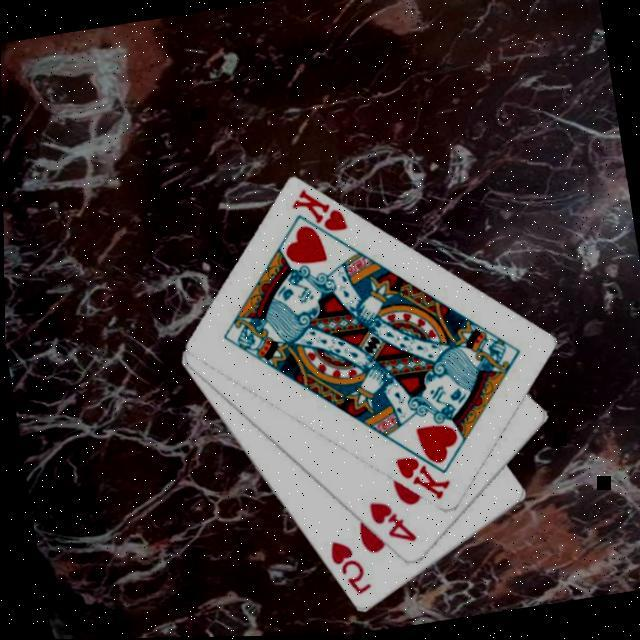4H: (364, 494, 422, 554)
5H: (324, 535, 376, 603)
KH: (287, 183, 353, 244), (392, 450, 456, 510)
